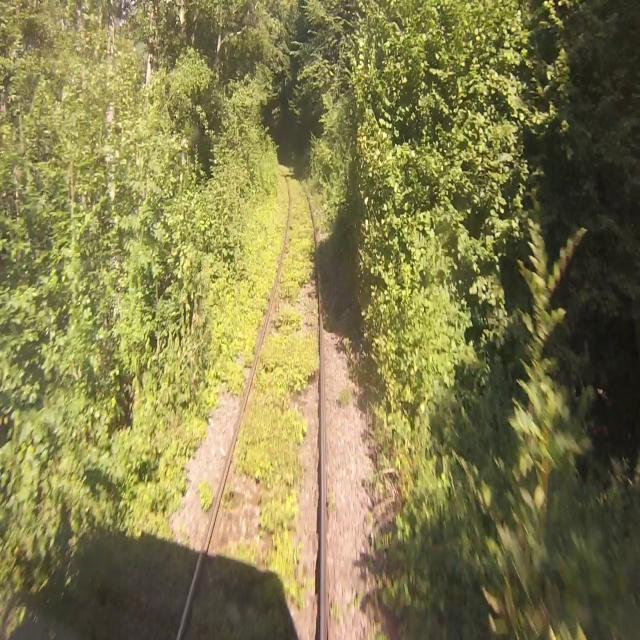Plant: (221, 308, 320, 617), (113, 388, 222, 620), (219, 177, 287, 395), (350, 472, 394, 639), (275, 171, 317, 305), (304, 174, 334, 232), (197, 481, 214, 514), (337, 386, 352, 407), (326, 599, 341, 619), (327, 497, 334, 516)
